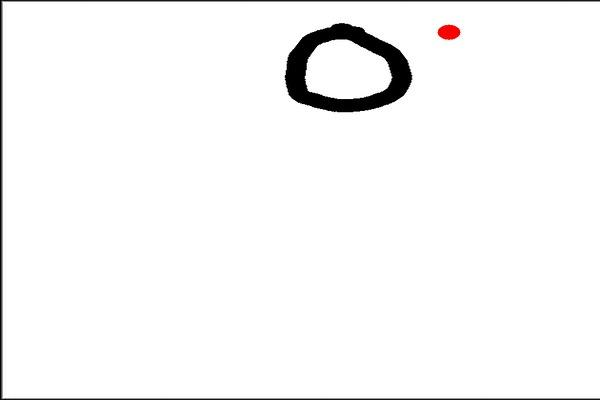O: (276, 20, 416, 121)
